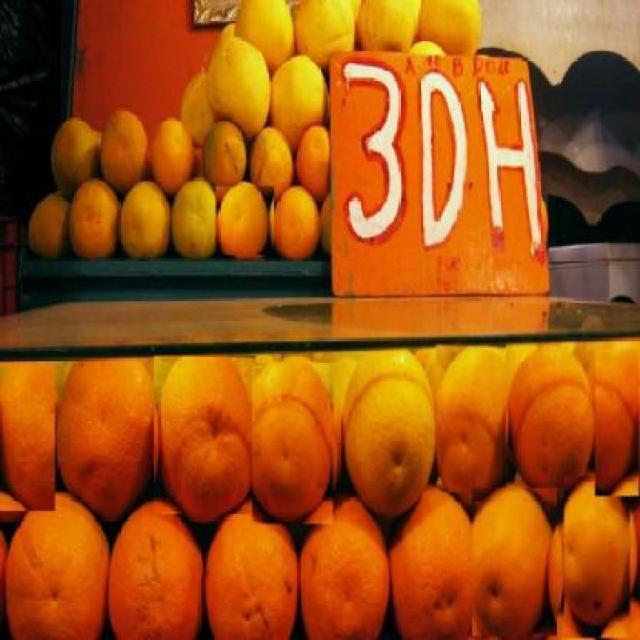Orange: (54, 339, 158, 527), (153, 356, 256, 515), (4, 487, 109, 640), (339, 359, 436, 513), (506, 348, 596, 500), (298, 502, 394, 640), (104, 500, 198, 640), (398, 479, 480, 639), (252, 363, 332, 525), (472, 488, 557, 636), (206, 512, 297, 640), (564, 476, 630, 638), (436, 344, 506, 492), (0, 365, 55, 511), (595, 349, 640, 497), (201, 36, 272, 125), (267, 57, 337, 133), (94, 108, 154, 183), (293, 0, 364, 61), (216, 187, 273, 256), (236, 0, 294, 67), (359, 0, 424, 59), (173, 179, 221, 257), (121, 180, 169, 256), (71, 180, 118, 256), (46, 119, 99, 185), (149, 117, 195, 191), (202, 121, 250, 189), (274, 187, 320, 256), (421, 2, 486, 50), (253, 126, 302, 186), (27, 193, 72, 255), (297, 126, 334, 194)
